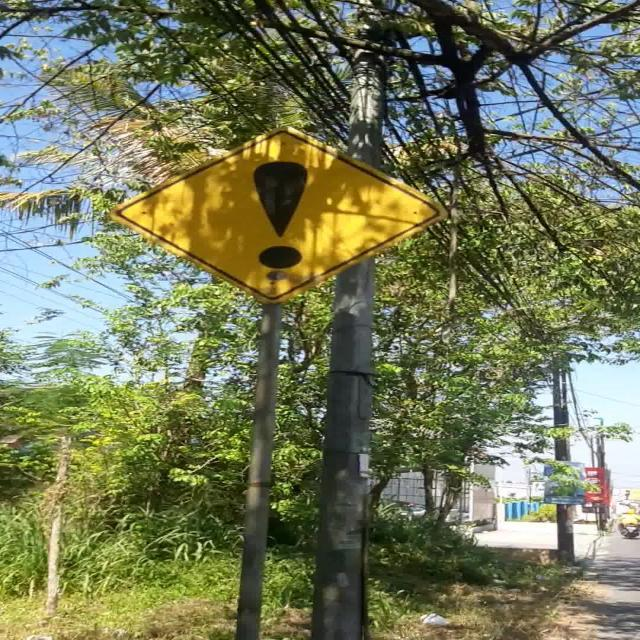Hati-Hati: (108, 126, 450, 304)
